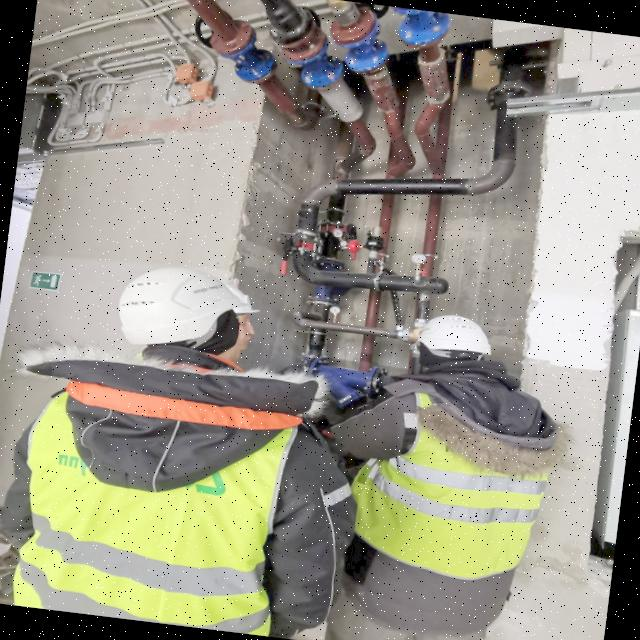Helmet: (114, 262, 251, 358), (410, 308, 494, 368), (217, 280, 266, 355)
Jacket: (13, 338, 285, 635), (360, 364, 549, 582)
